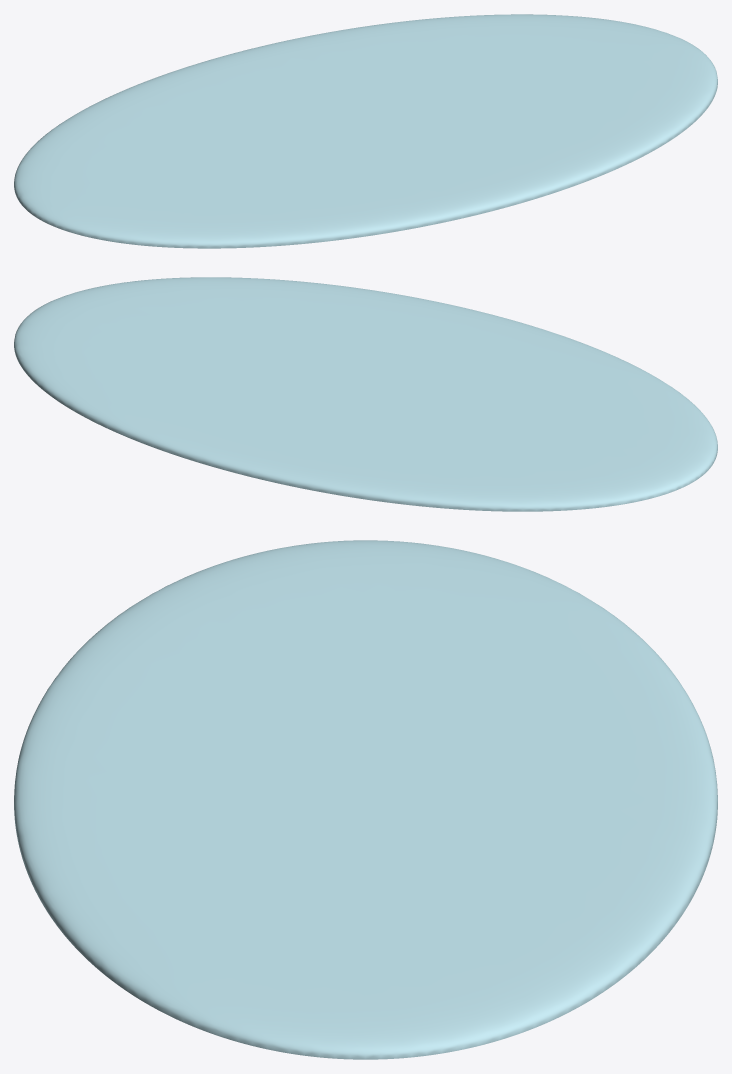
Rendered from vetrotavolo.gltf.
3 renders of one model, top to bottom at view 1: azimuth 30°, elevation 25°; view 2: azimuth 150°, elevation 25°; view 3: azimuth 270°, elevation 25°, orthographic. The views are drawn at different scales.
Visible parts, largest first — view 1: Disc; view 2: Disc; view 3: Disc.
Boxes of the visible parts, x1=… form: Disc: x1=14, y1=14, x2=717, y2=248; Disc: x1=14, y1=277, x2=717, y2=511; Disc: x1=14, y1=540, x2=717, y2=1059.
Bounding box in the file's own units: 255 × 3 × 147.
